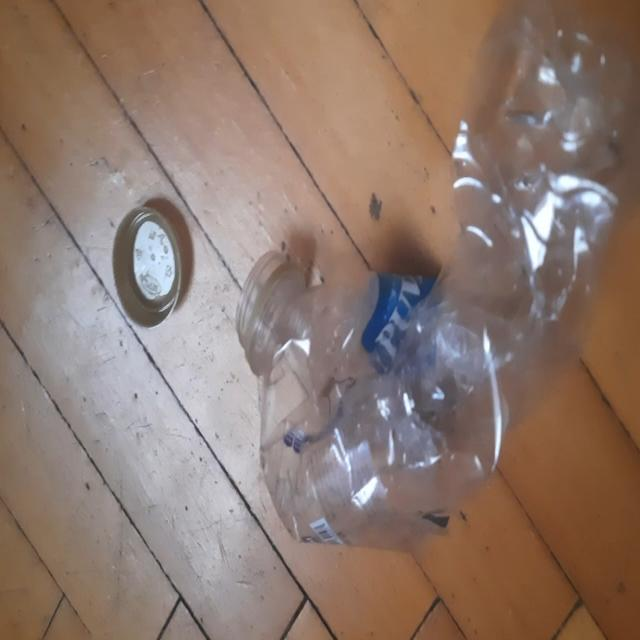Plastic: (238, 1, 638, 548)
